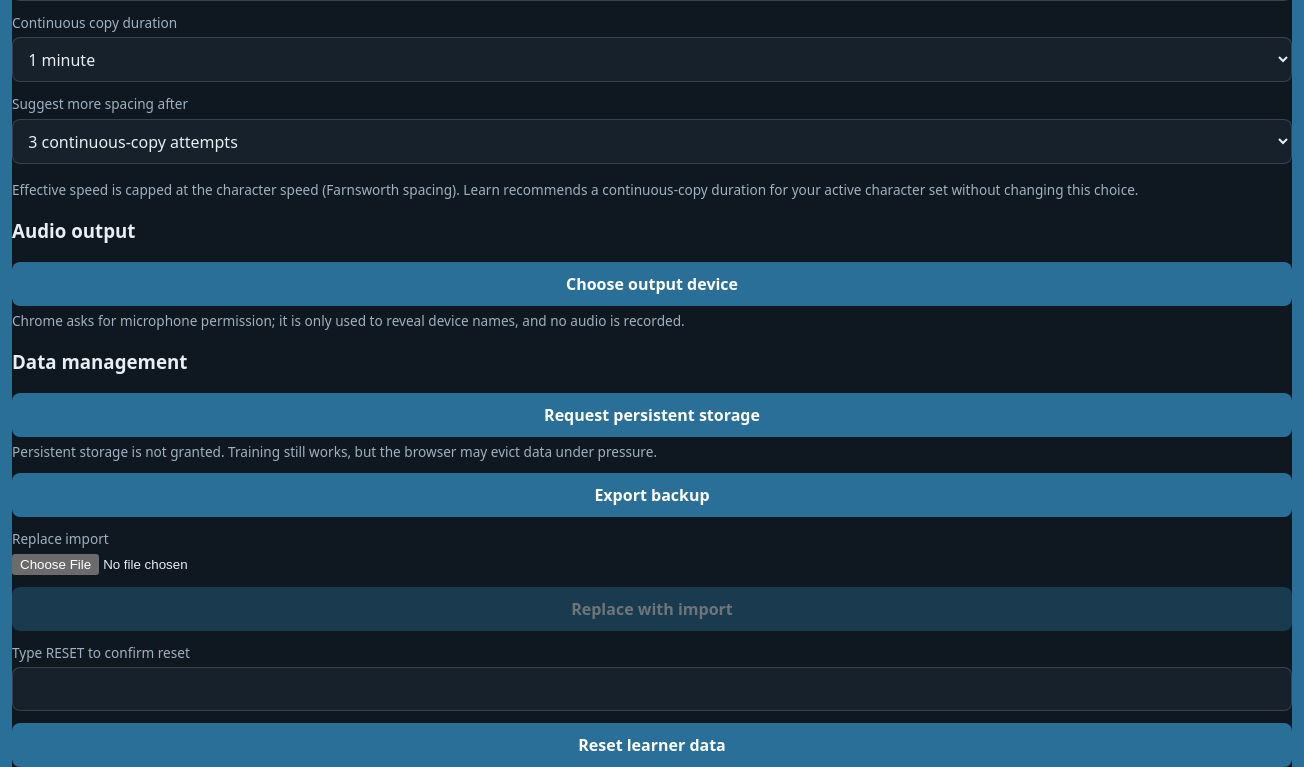
SettingsScreen continuous copy › requests persistent storage from a user gesture and shows granted status
(page scrolled)
Check: the text "Persistent storage is not granted" is shown, box [12,442,657,461]
Click the button "Request persistent storage" at {"x": 652, "y": 415}, box [12,393,1292,437]
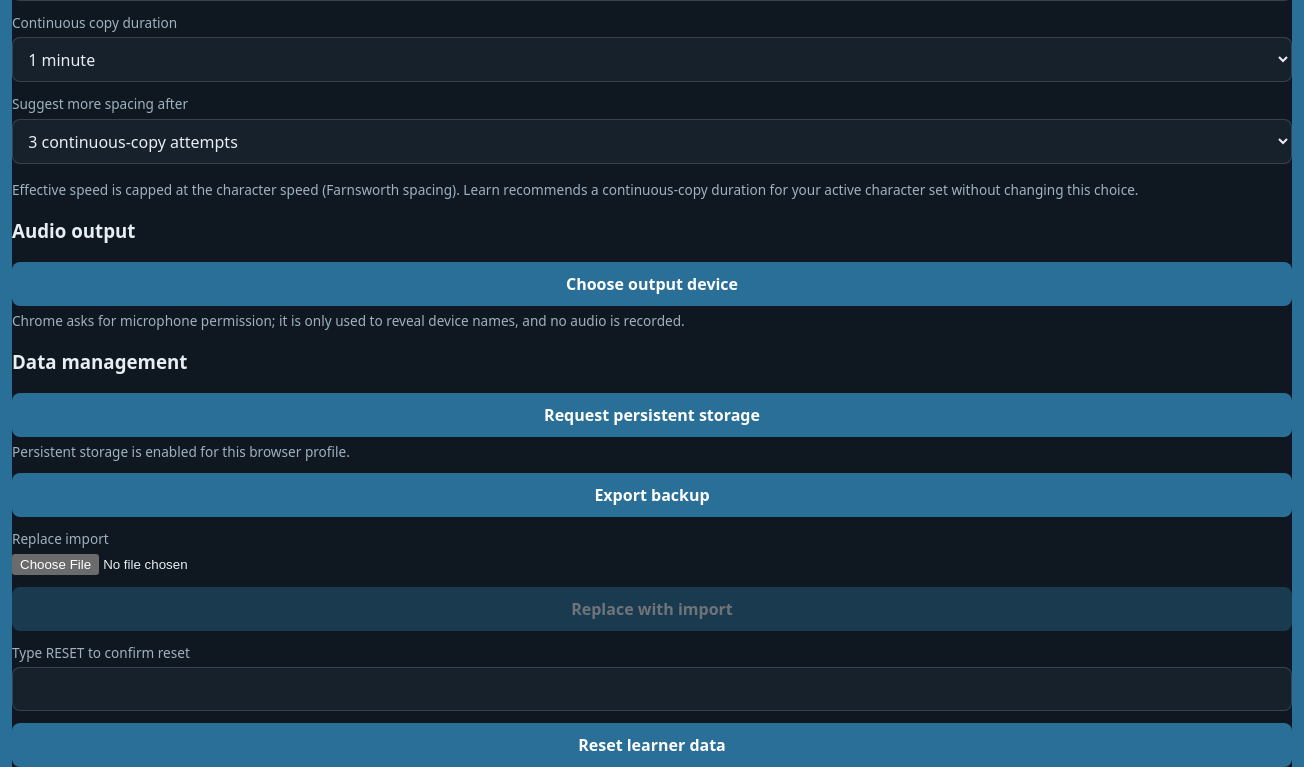
Check: the text "Persistent storage is enabled for this browser profile." is shown, box [12,442,350,461]
